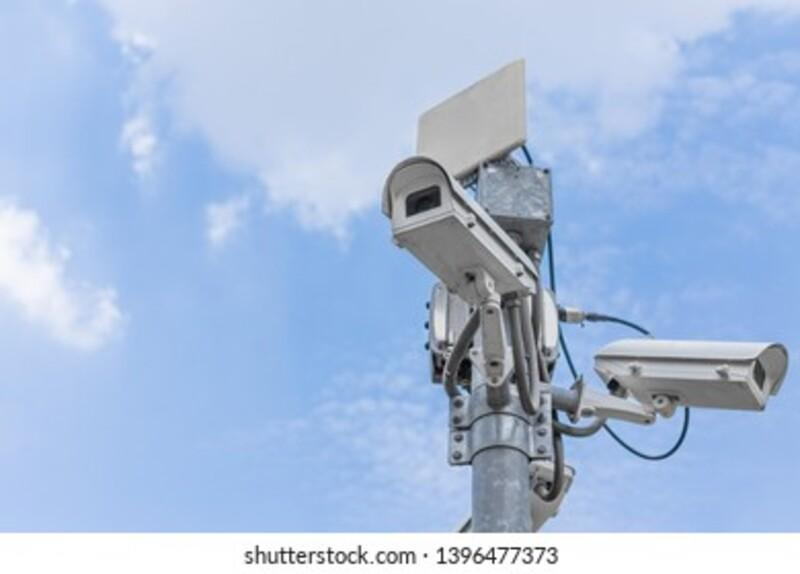box: (383, 157, 536, 311), (602, 326, 786, 415)
